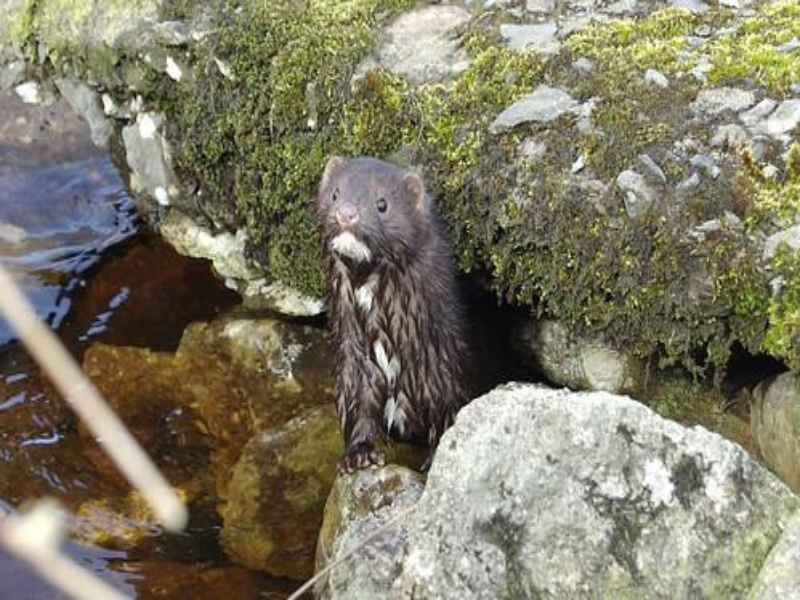minkish: (316, 153, 488, 481)
